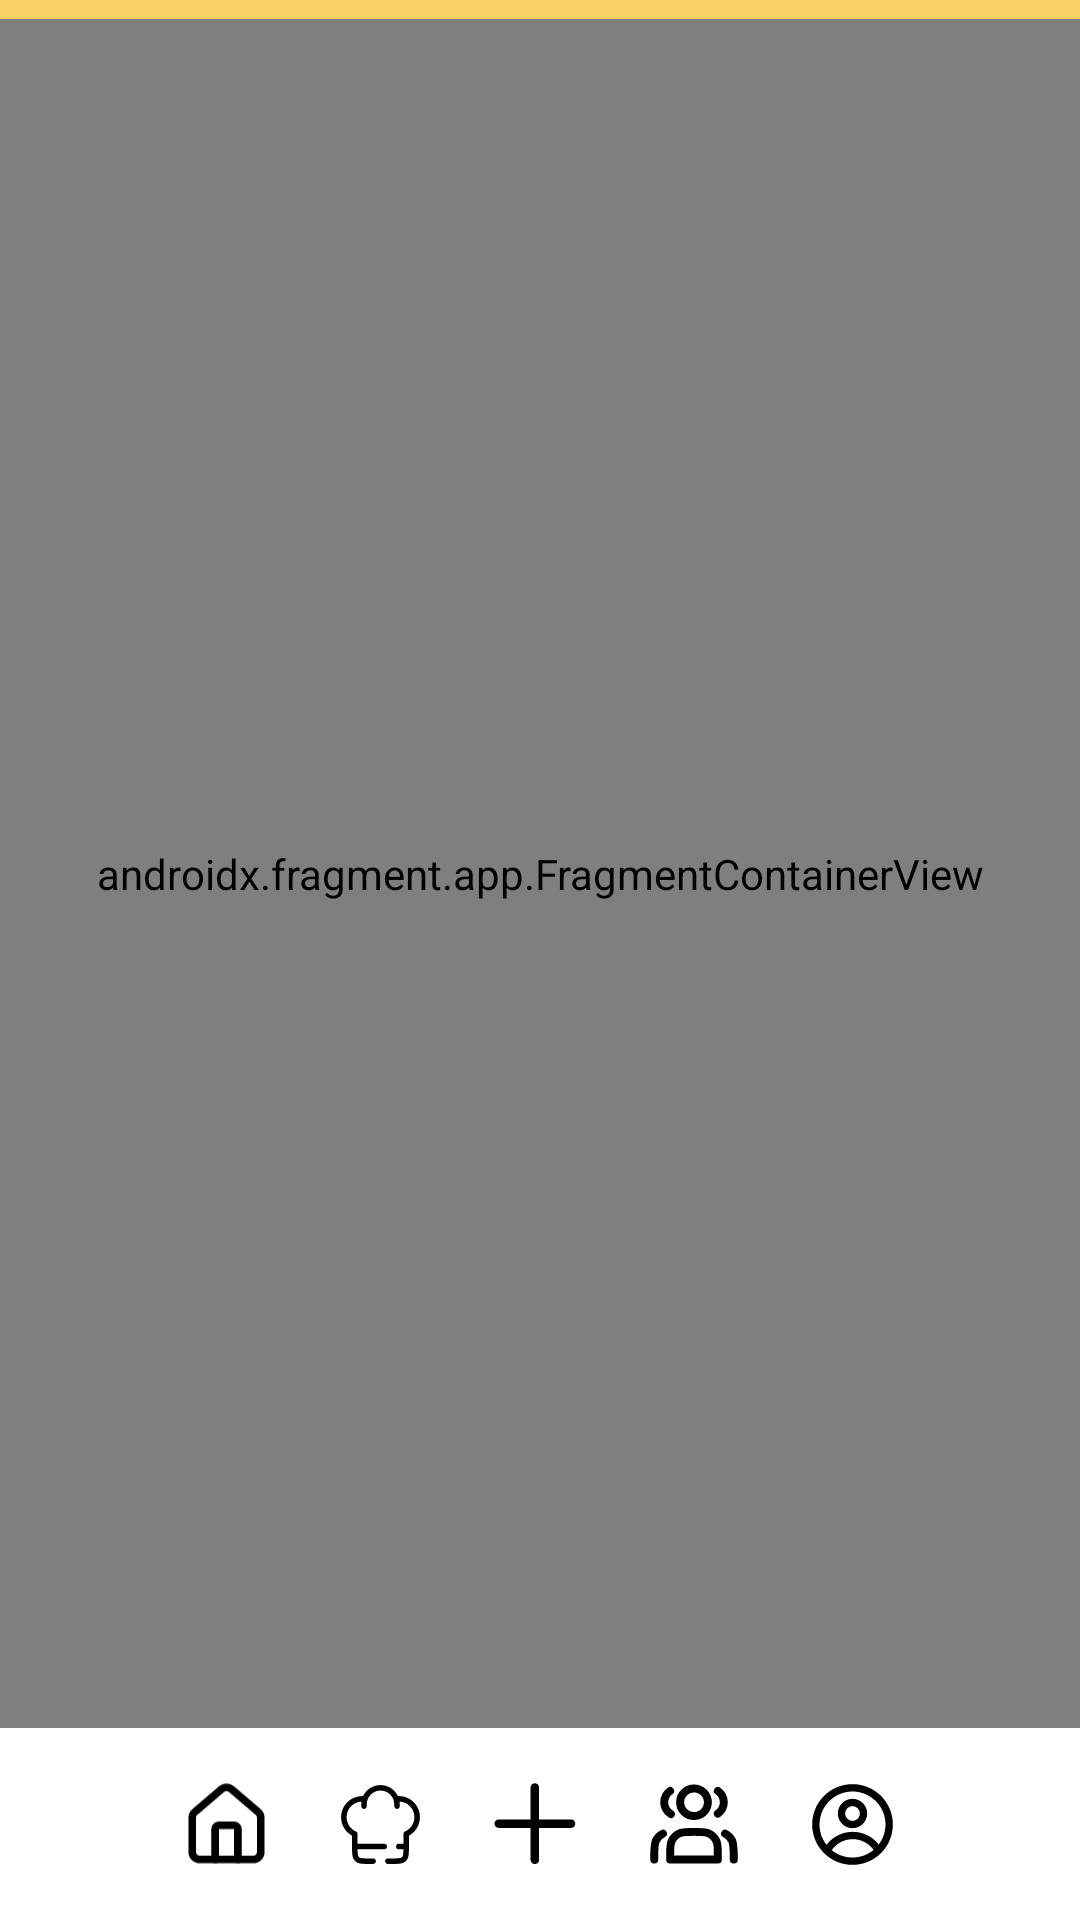

Locate icon controls on the screen. Image size 1080×1920, boxes as bbox=(x1, y1, x2, y2).
feed: bbox=(650, 1784, 738, 1864)
home: bbox=(188, 1783, 265, 1864)
inserir: bbox=(494, 1783, 576, 1864)
perfil: bbox=(812, 1784, 893, 1865)
receitas: bbox=(341, 1785, 420, 1864)
